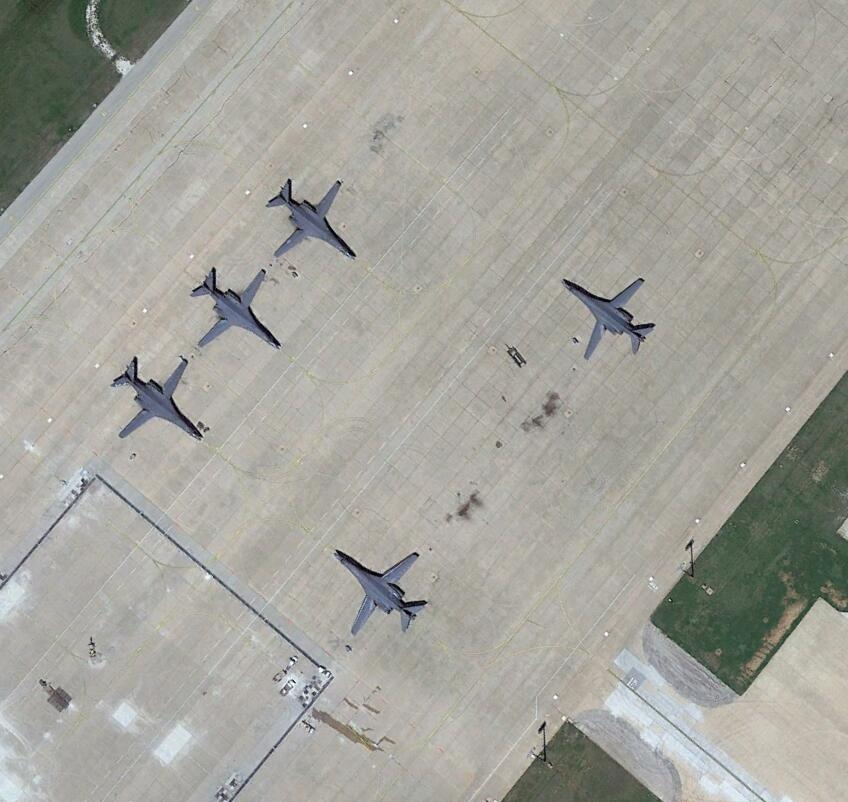A10: (561, 267, 657, 364), (332, 542, 430, 636), (106, 357, 206, 445), (188, 266, 285, 356), (265, 172, 358, 262)
